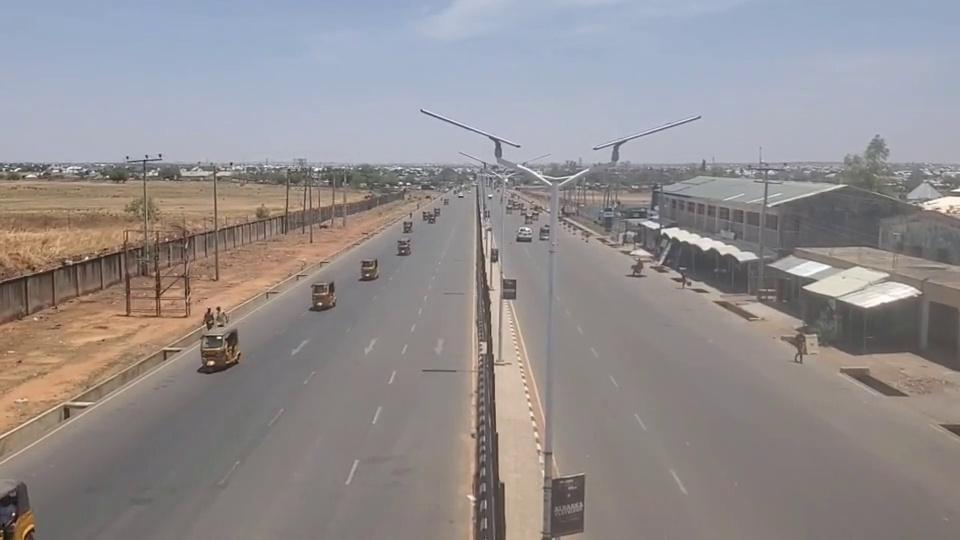car: (516, 227, 534, 242)
keke: (199, 327, 240, 371), (310, 280, 336, 310), (360, 259, 379, 281), (397, 238, 411, 255), (539, 223, 550, 239), (524, 212, 534, 223), (530, 210, 539, 220), (505, 206, 513, 215)
